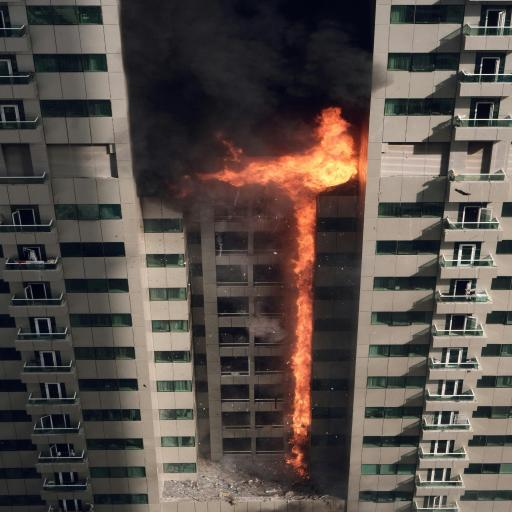buildingfire: (0, 4, 512, 512)
fire: (199, 107, 357, 476)
smoke: (121, 0, 375, 197)
